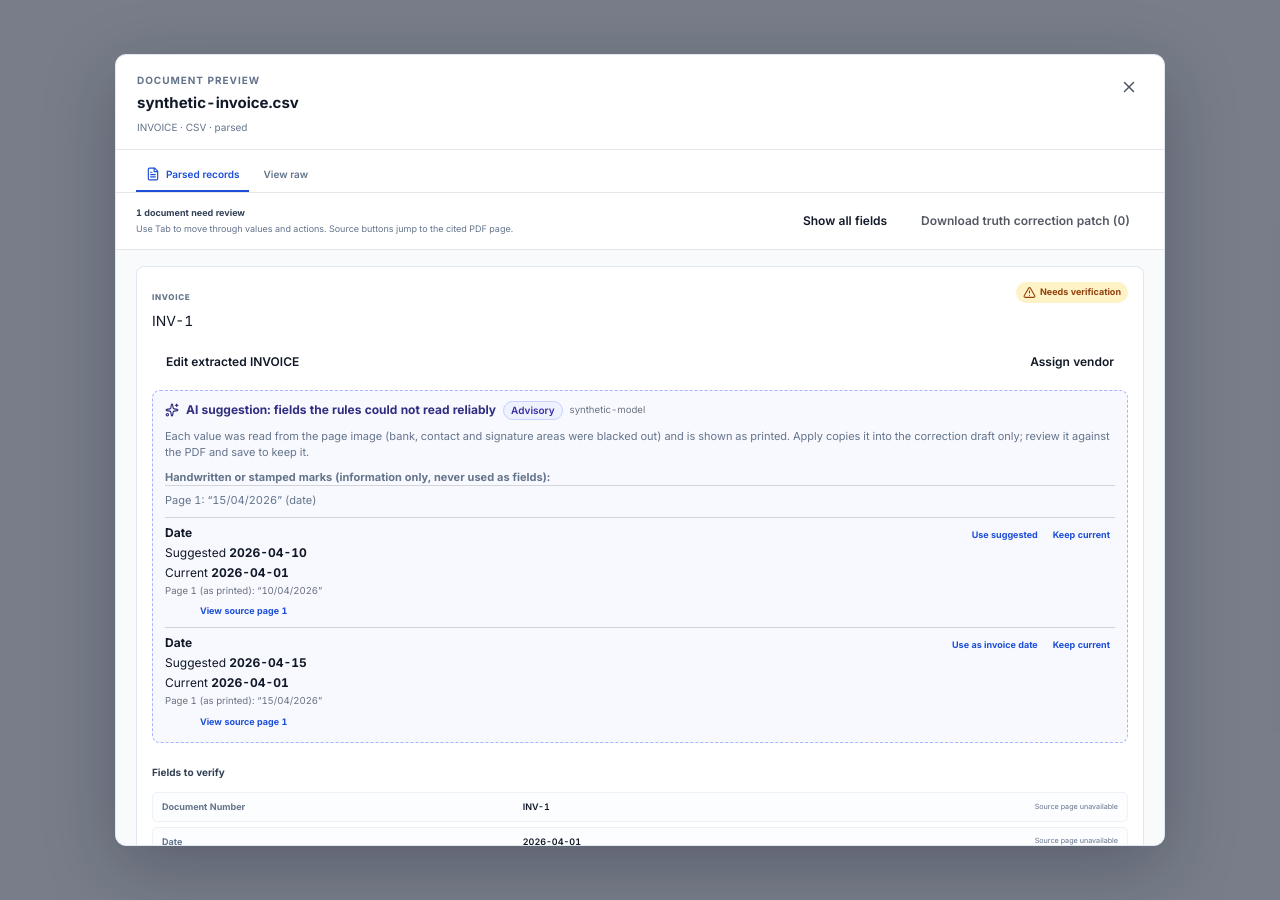
Test: H1 AI suggestions in the invoice preview › renders printed and handwritten suggestions for the same field with distinct keys and dismisses independently
Expected: the button with aria-label "Use suggested Date" is shown, x1=967 y1=524 x2=1043 y2=545
Expected: the button "Use as invoice date" is shown, x1=947 y1=634 x2=1043 y2=656
# Dismiss printed suggestion
Click the button with aria-label "Keep current for Date": (1081, 534) x1=1048 y1=524 x2=1115 y2=545
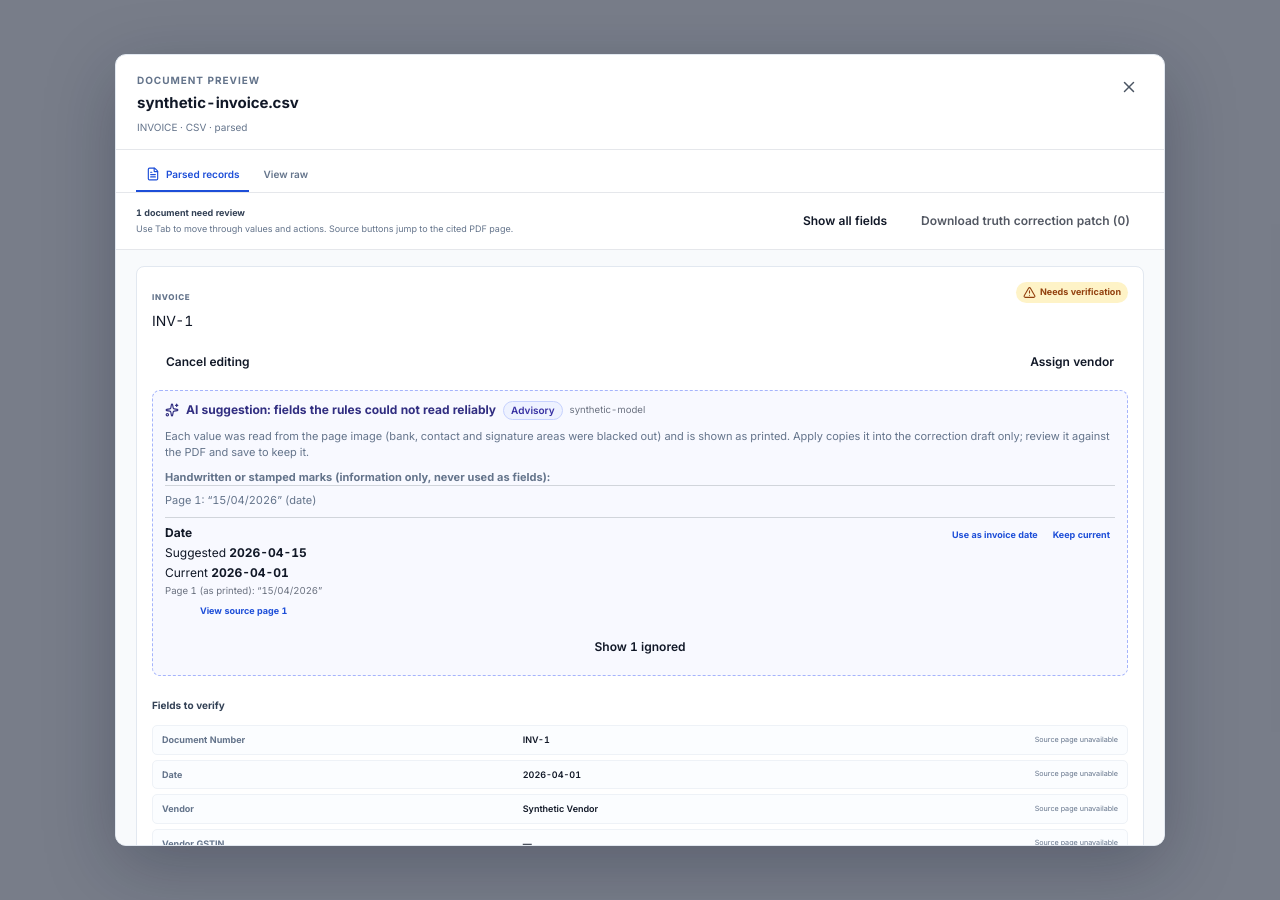
Expected: the button "Use as invoice date" is shown, x1=947 y1=524 x2=1043 y2=545
Result: the button "Show 1 ignored" is shown at x1=165 y1=629 x2=1115 y2=665
